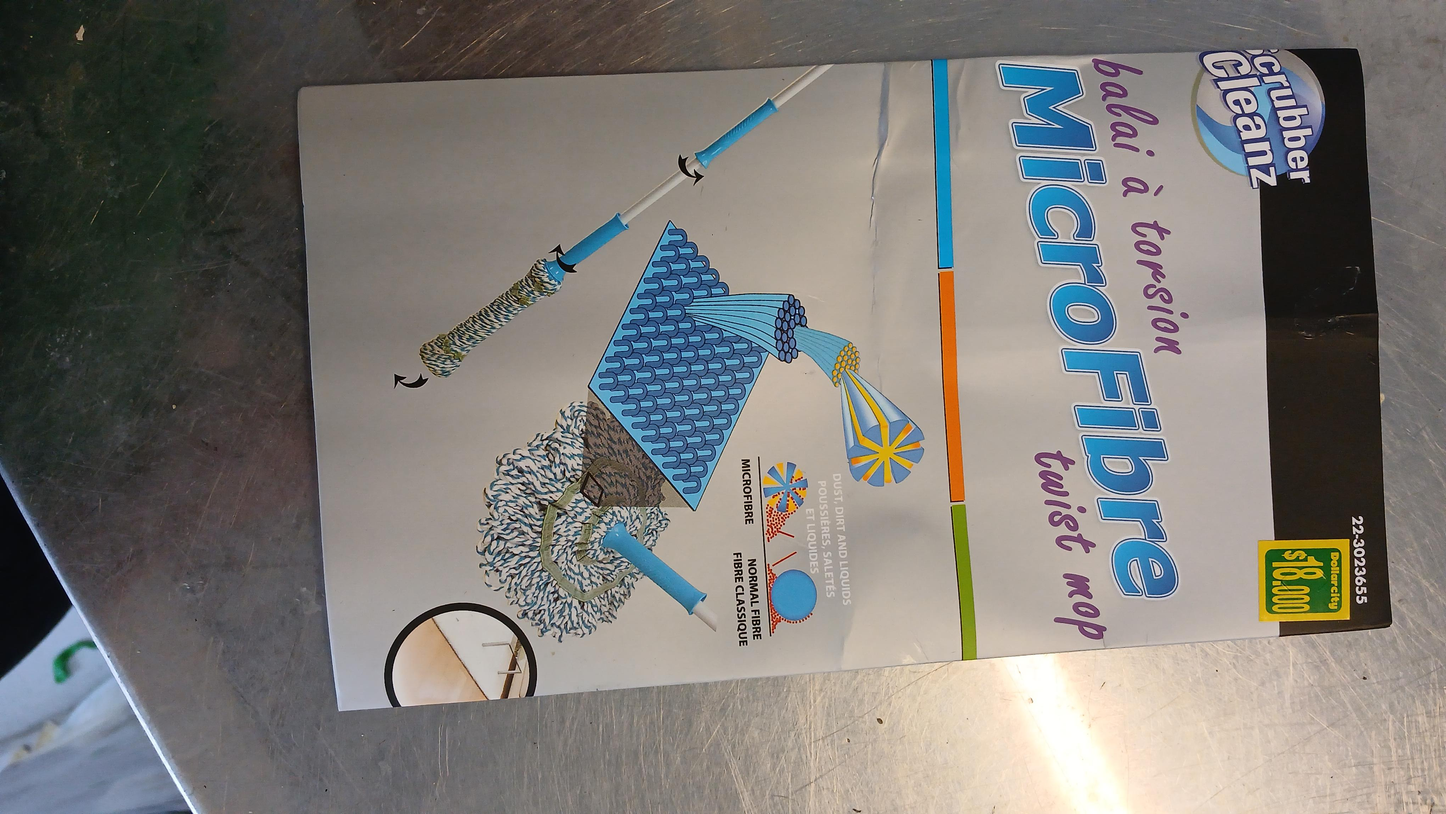Papel: (297, 46, 1393, 713)
